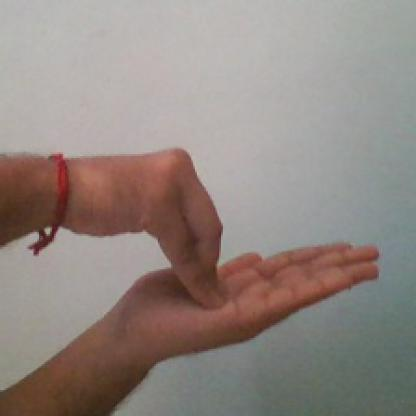Z: (85, 137, 385, 356)
